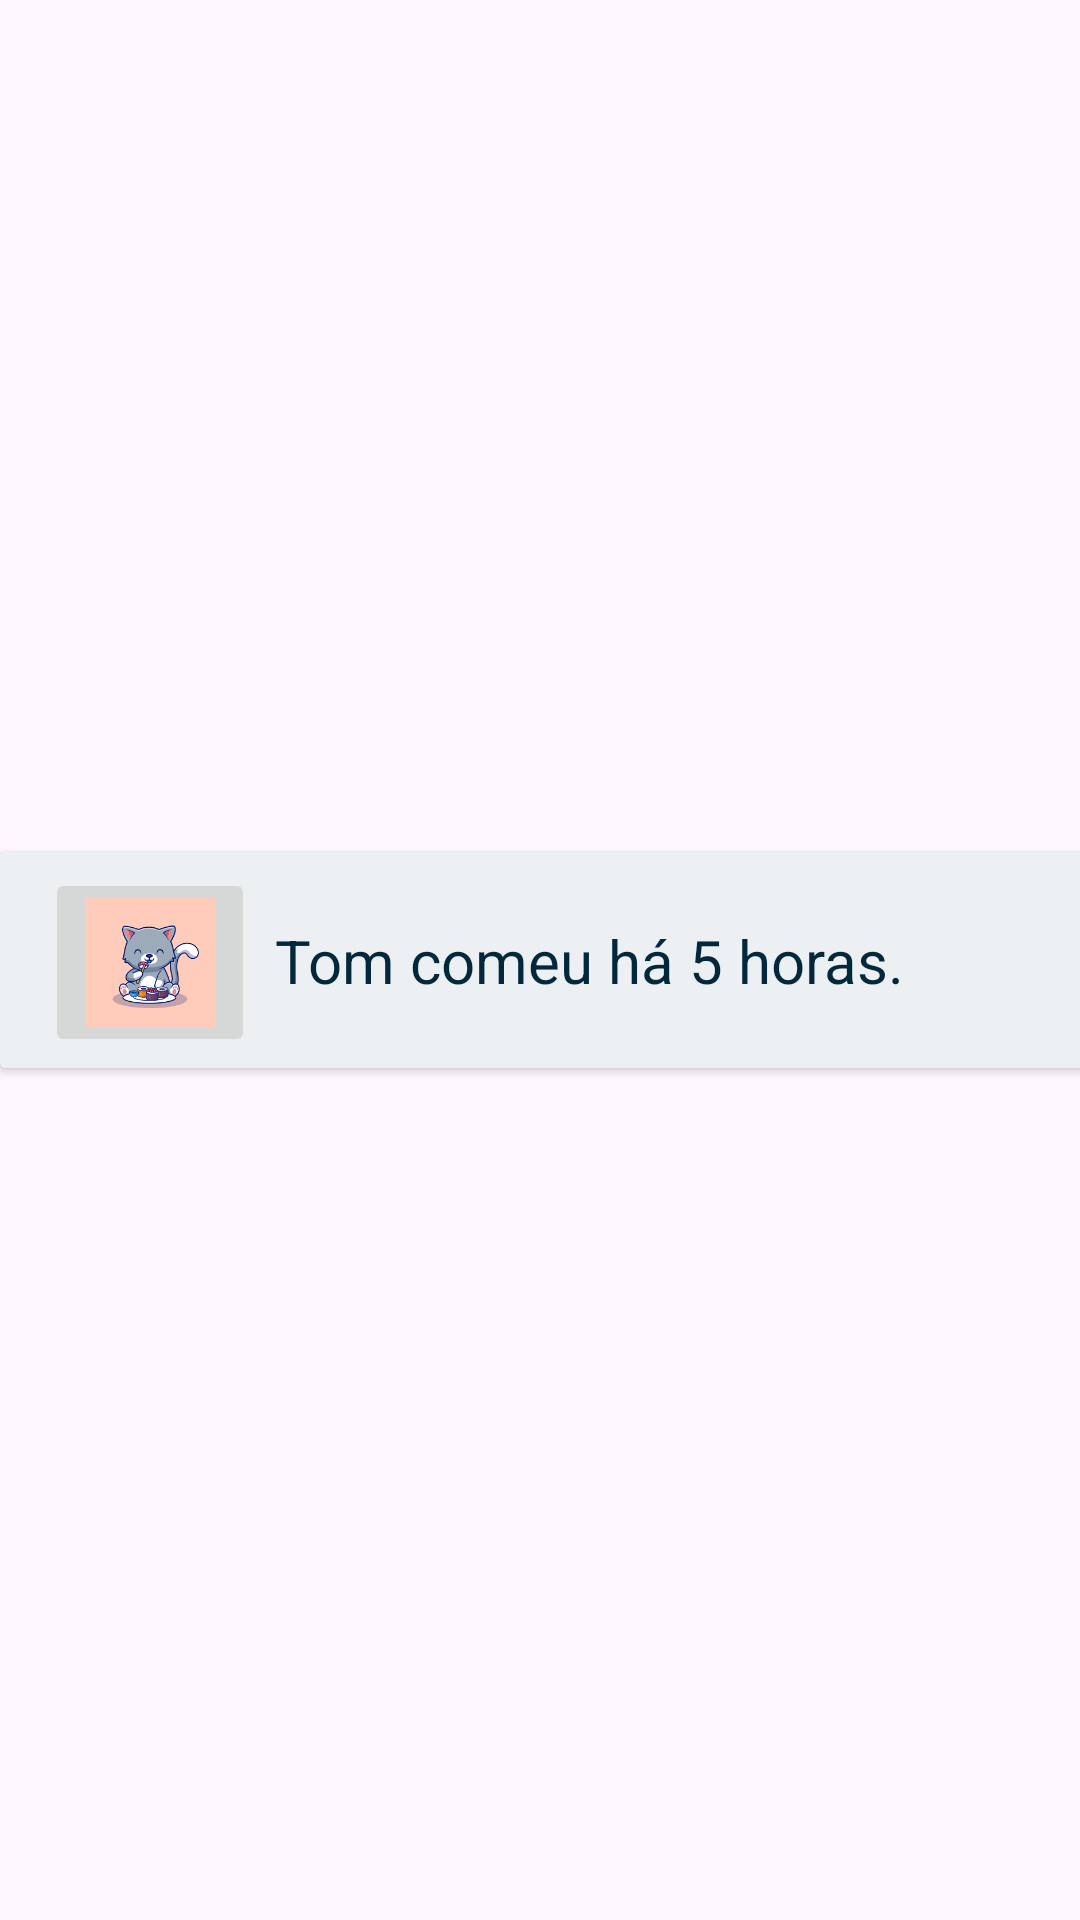

Named icons in this screenshot (1080x1920) and their centers, (x=x, y=y):
gato comendo: (x=150, y=962)
